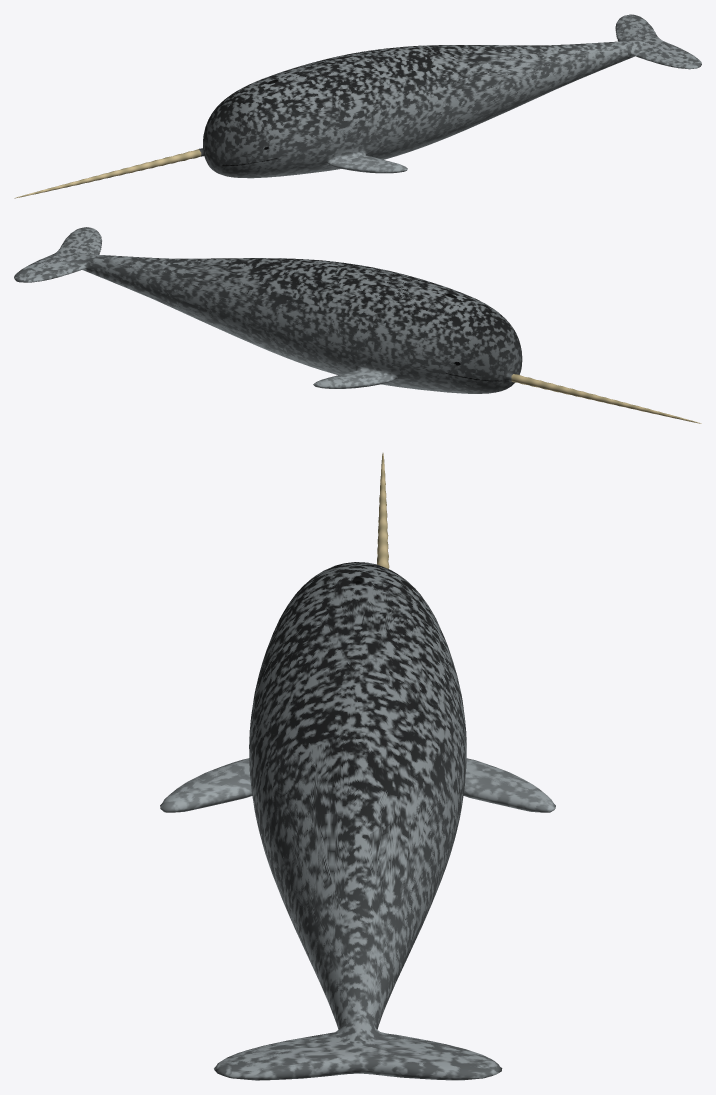
3 renders of one model, top to bottom at view 1: azimuth 30°, elevation 25°; view 2: azimuth 150°, elevation 25°; view 3: azimuth 270°, elevation 25°, orthographic. The views are drawn at different scales.
Visible parts, largest first — view 1: NEW407_Whole_male_narwhal_LOD1; view 2: NEW407_Whole_male_narwhal_LOD1; view 3: NEW407_Whole_male_narwhal_LOD1.
Part boxes in pixels (x1,y1,x2,y2): NEW407_Whole_male_narwhal_LOD1: (14,14,701,198); NEW407_Whole_male_narwhal_LOD1: (14,227,701,423); NEW407_Whole_male_narwhal_LOD1: (160,453,555,1080).
Size of the model in its own units: 6.3 by 0.9486 by 1.66.
1 material, 1 textured.
